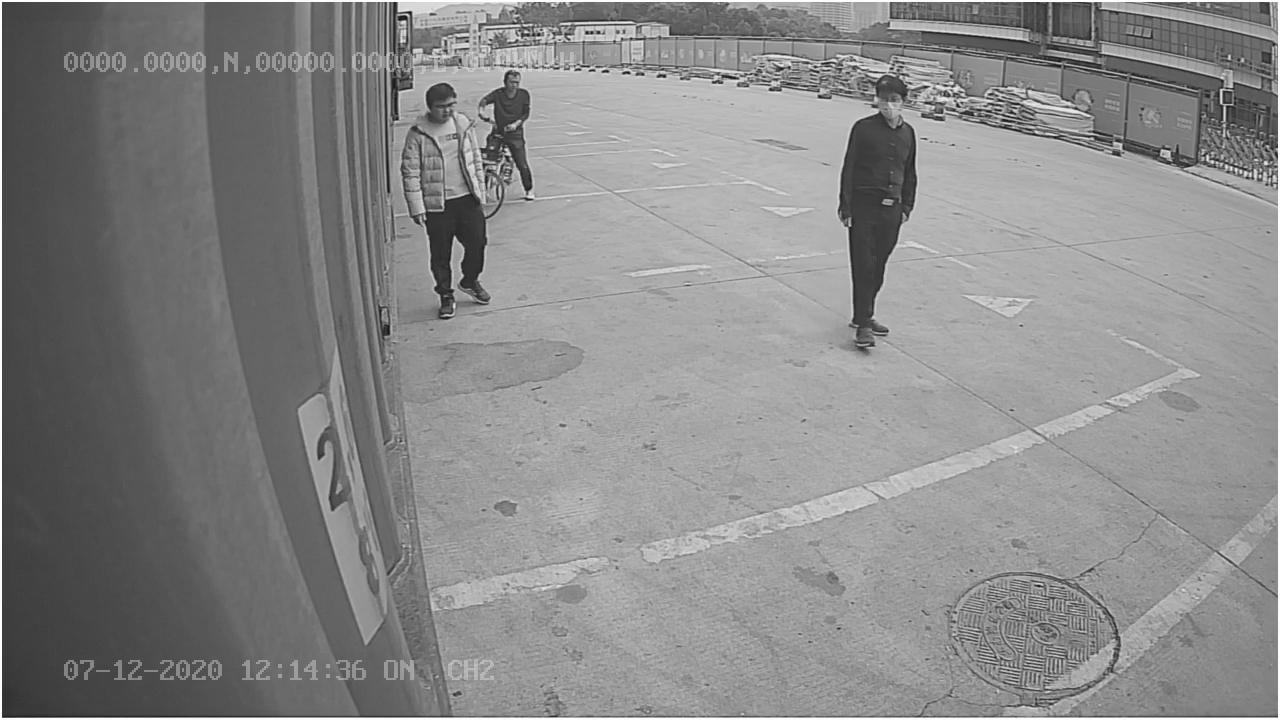person: (836, 73, 922, 355)
